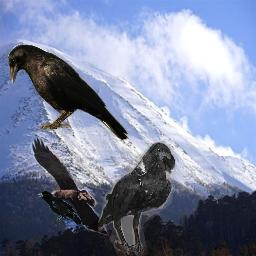Crow: (8, 44, 130, 141), (98, 142, 176, 256), (30, 136, 109, 236), (37, 191, 81, 226)
